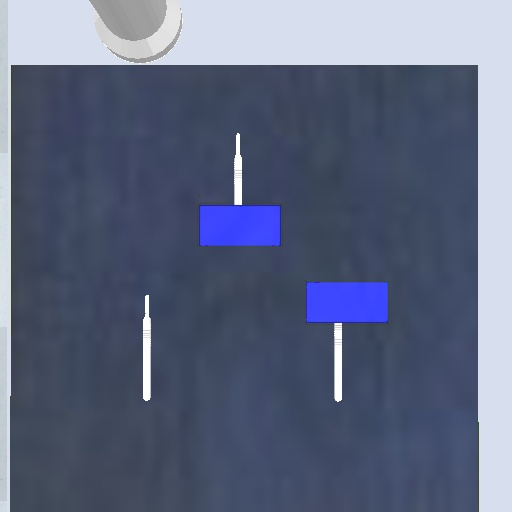bisturi: (138, 290, 158, 405), (330, 321, 347, 404), (229, 130, 246, 205)
